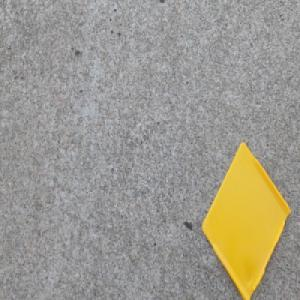PlasticPart: (200, 141, 291, 300)
